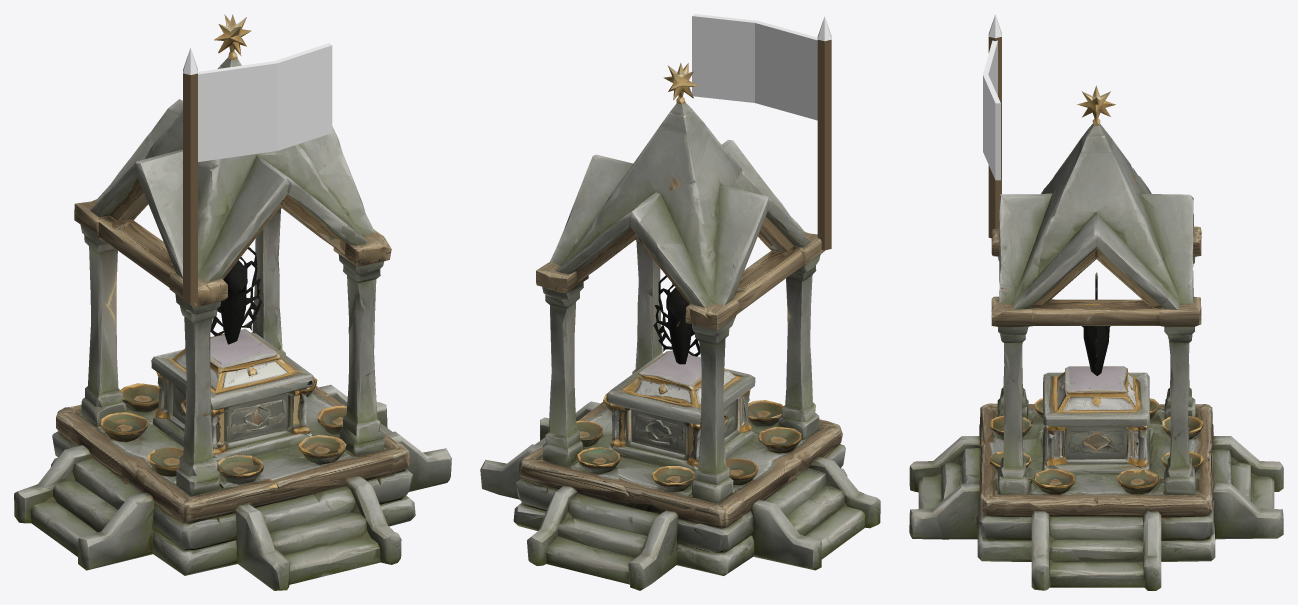
The picture shows the model from 3 angles, left to right: view 1: azimuth 30°, elevation 25°; view 2: azimuth 150°, elevation 25°; view 3: azimuth 270°, elevation 25°; orthographic projection. The views are drawn at different scales.
Parts seen in each view (by area): view 1: starborn_wayshrine, Team_banner; view 2: starborn_wayshrine, Team_banner; view 3: starborn_wayshrine, Team_banner.
Boxes of the visible parts, x1,y1,x2,y2 form: starborn_wayshrine: (14,14,451,590); Team_banner: (183,43,332,303); starborn_wayshrine: (480,63,880,590); Team_banner: (692,14,831,250); starborn_wayshrine: (909,85,1283,590); Team_banner: (983,14,1001,238).
Size of the model in its own units: 1.51 by 2.03 by 1.51.
3 materials, 1 textured.
